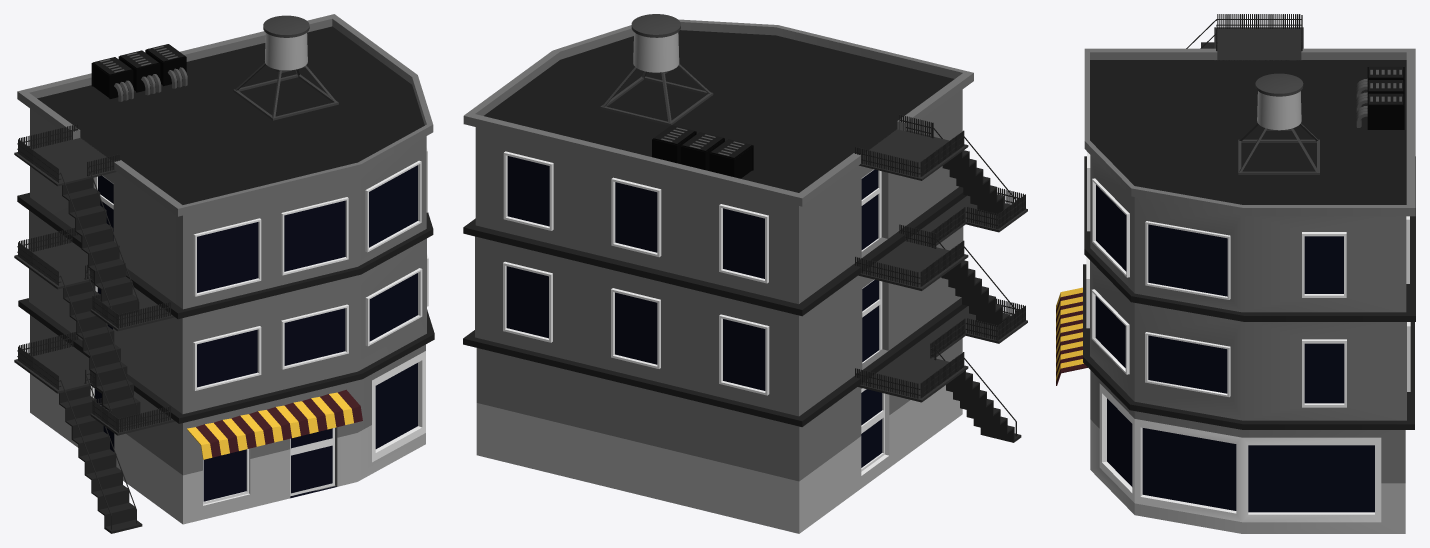
File: Corner Building_2.fbx
3 views of the same model, side by side, from view 1: azimuth 30°, elevation 25°; view 2: azimuth 150°, elevation 25°; view 3: azimuth 270°, elevation 25° (orthographic). The views are drawn at different scales.
Visible parts, largest first — view 1: Plane.106; view 2: Plane.106; view 3: Plane.106.
Part boxes in pixels (left/top/right/bottom): Plane.106: left=14, top=14, right=434, bottom=533; Plane.106: left=463, top=14, right=1027, bottom=533; Plane.106: left=1056, top=14, right=1415, bottom=533.
Size of the model in its own units: 900 by 884 by 724.
